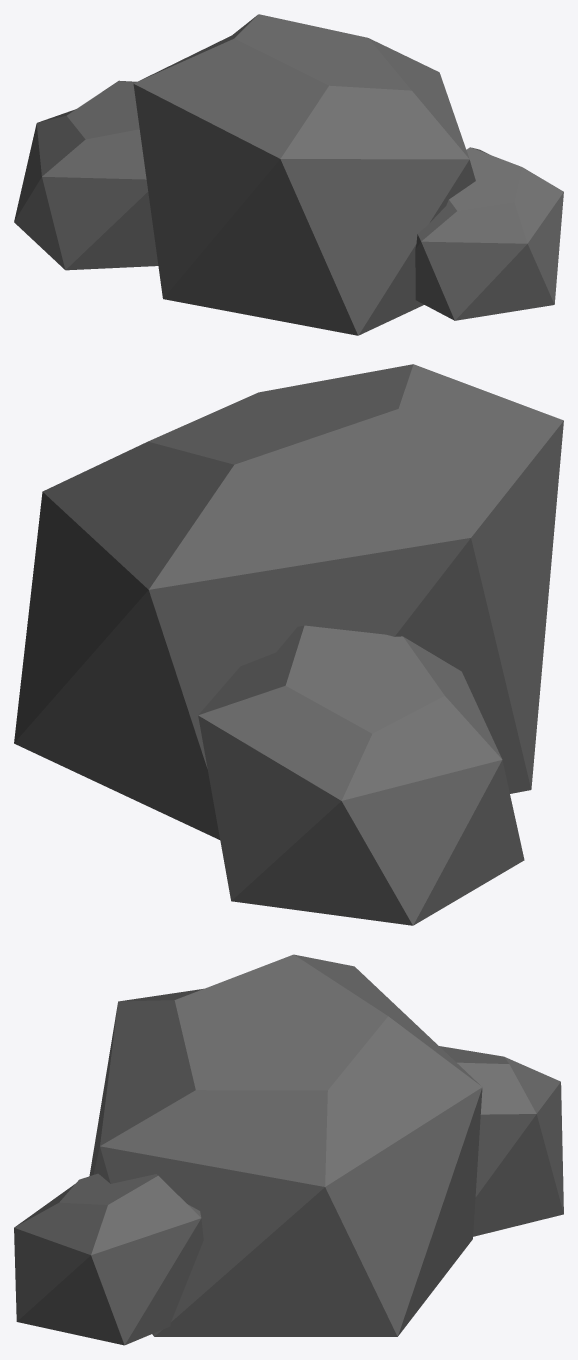
The model's file is env_props_rocas_01.fbx.
3 renders of one model, top to bottom at view 1: azimuth 30°, elevation 25°; view 2: azimuth 150°, elevation 25°; view 3: azimuth 270°, elevation 25°, orthographic. The views are drawn at different scales.
Visible parts, largest first — view 1: env_props_rocas; view 2: env_props_rocas; view 3: env_props_rocas.
Boxes of the visible parts, left/top/right/bottom form: env_props_rocas: left=14, top=14, right=563, bottom=335; env_props_rocas: left=14, top=364, right=563, bottom=925; env_props_rocas: left=14, top=954, right=563, bottom=1345.
Size of the model in its own units: 4.56 by 2.77 by 5.14.
